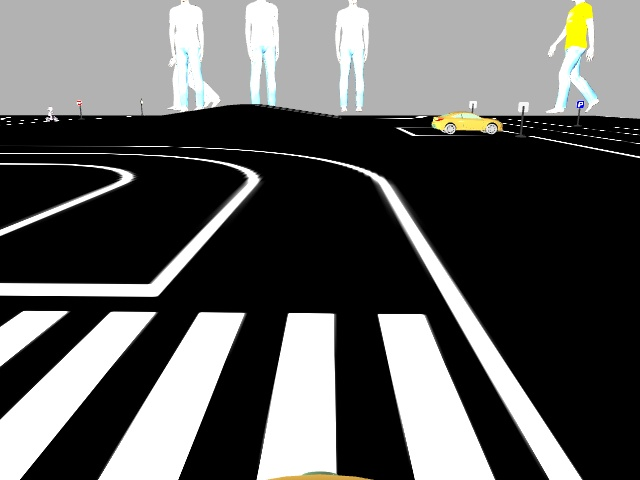Parking: (575, 98, 585, 108)
